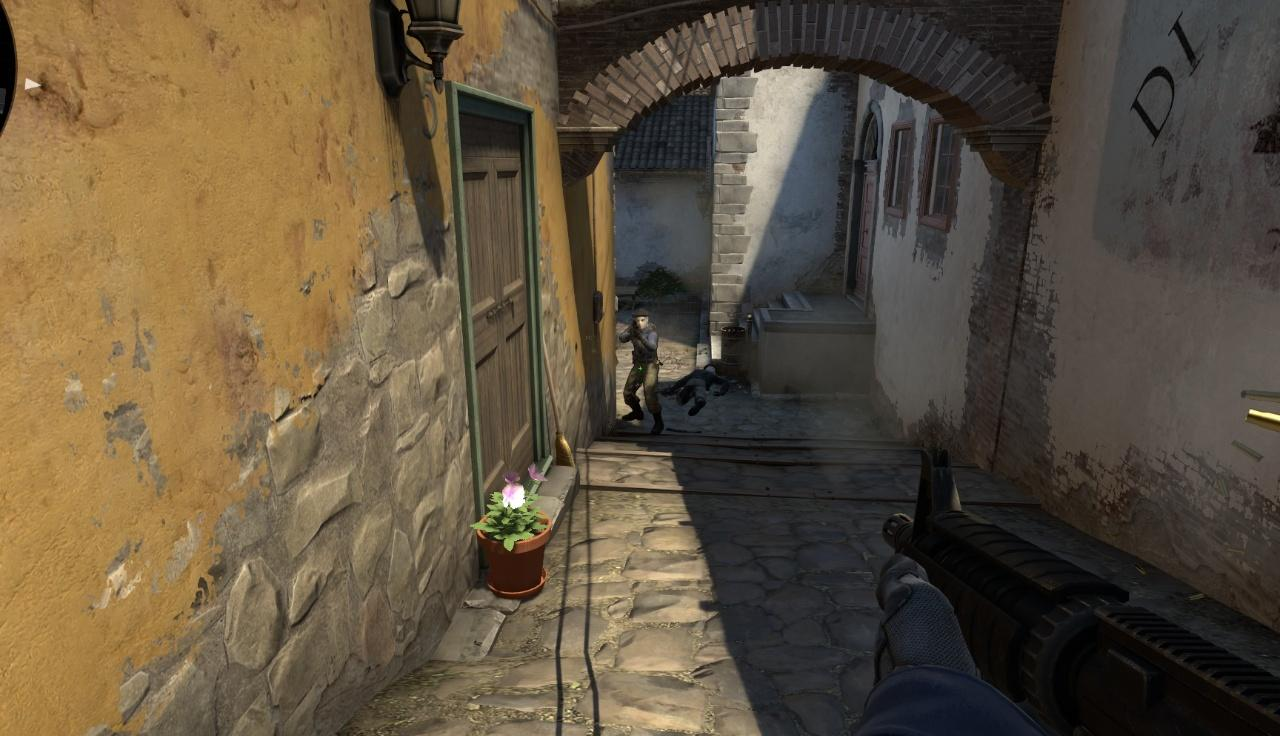rifle: (871, 444, 1280, 733)
tt: (617, 309, 663, 435)
tthead: (632, 311, 650, 328)
